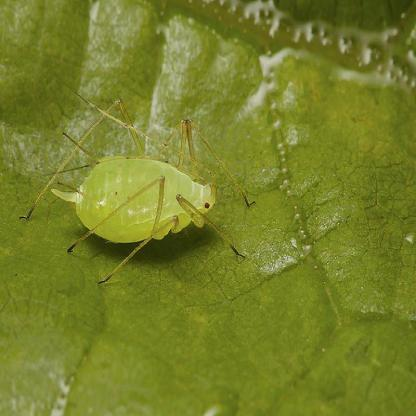aphid: (38, 81, 254, 304)
